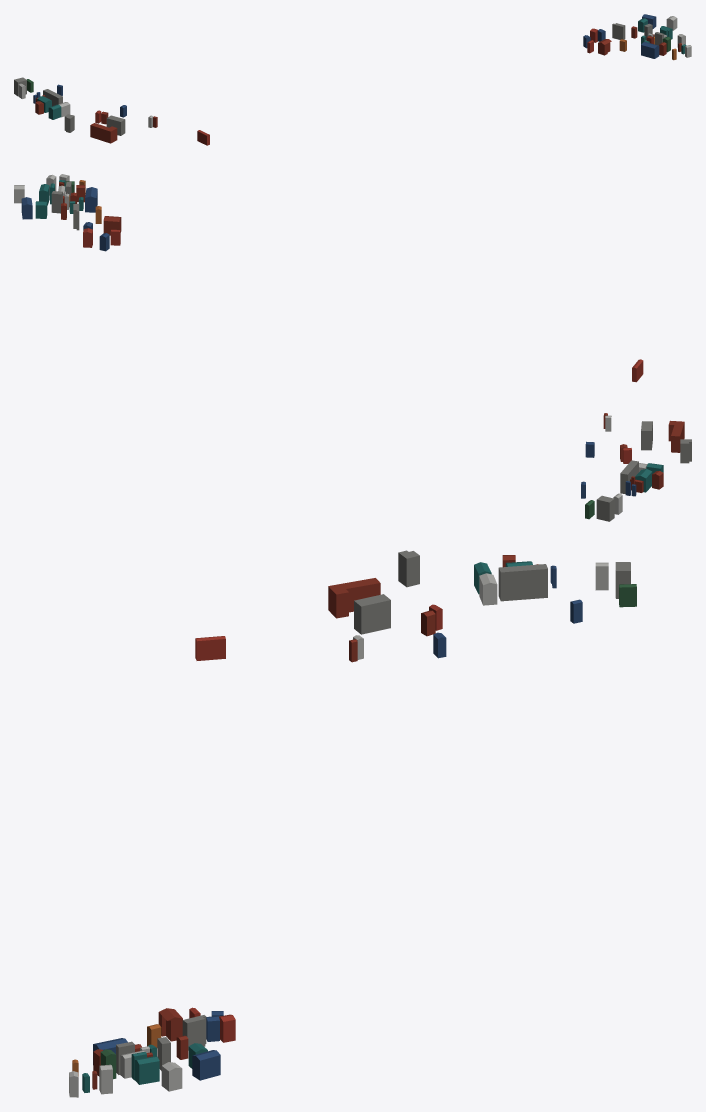
Rendered from near-15-27350-14880.7370f668.glb.
3 renders of one model, top to bottom at view 1: azimuth 30°, elevation 25°; view 2: azimuth 150°, elevation 25°; view 3: azimuth 270°, elevation 25°, orthographic. The views are drawn at different scales.
Size of the model in its own units: 944 by 48.99 by 418.
